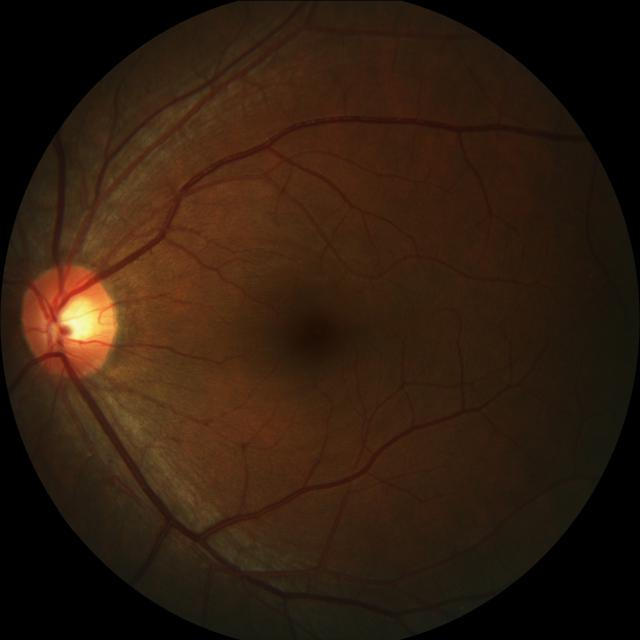OC: (43, 286, 98, 344)
OD: (24, 261, 120, 377)
